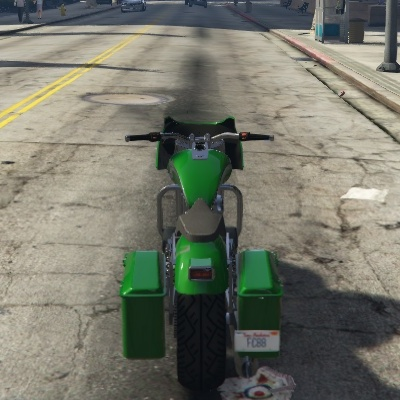off: (188, 255, 216, 285)
